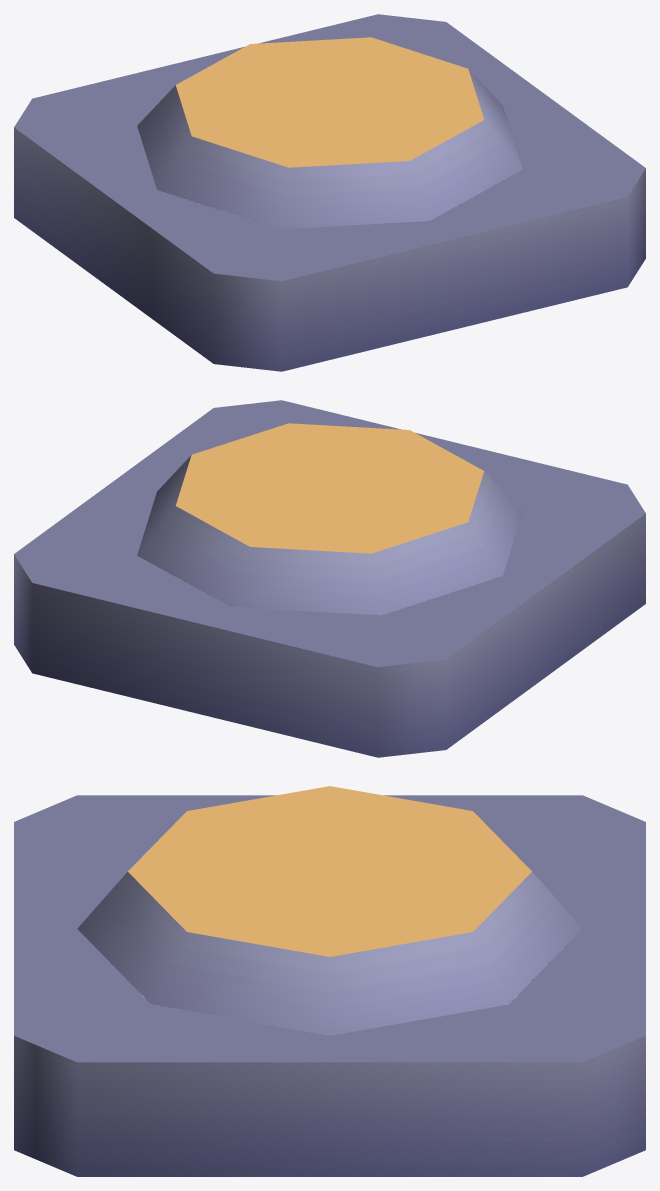
File: button-floor-round.glb
3 views of the same model, one above another, from view 1: azimuth 30°, elevation 25°; view 2: azimuth 150°, elevation 25°; view 3: azimuth 270°, elevation 25° (orthographic). The views are drawn at different scales.
Parts seen in each view (by area): view 1: button-floor-round, button; view 2: button-floor-round, button; view 3: button-floor-round, button.
Boxes of the visible parts, left/top/right/bottom form: button-floor-round: left=14, top=14, right=645, bottom=371; button: left=137, top=37, right=522, bottom=229; button-floor-round: left=14, top=400, right=645, bottom=757; button: left=137, top=423, right=522, bottom=615; button-floor-round: left=14, top=795, right=645, bottom=1176; button: left=77, top=786, right=582, bottom=1035.
Size of the model in its own units: 0.5 by 0.15 by 0.5.
Materials: 1 (1 with a texture image).
